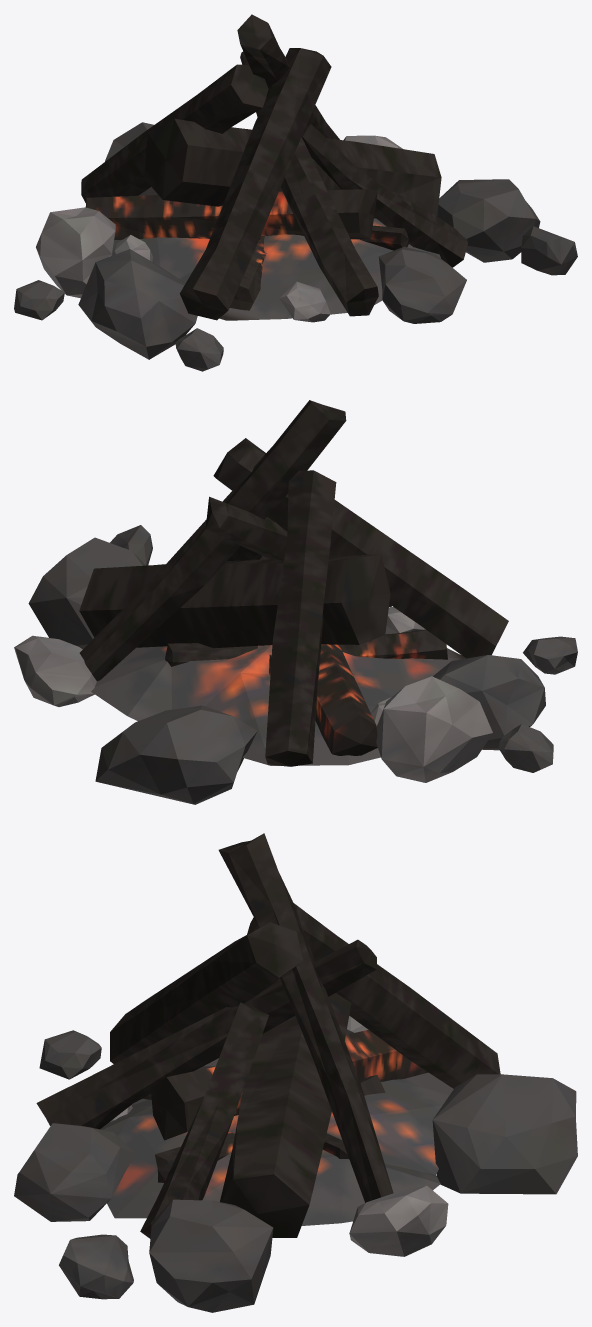
Rendered from campfire01.fbx.
The picture shows the model from 3 angles, top to bottom: view 1: azimuth 30°, elevation 25°; view 2: azimuth 150°, elevation 25°; view 3: azimuth 270°, elevation 25°; orthographic projection. The views are drawn at different scales.
Parts seen in each view (by area): view 1: campfire01; view 2: campfire01; view 3: campfire01.
Boxes of the visible parts, x1,y1,x2,y2 form: campfire01: [14, 14, 577, 371]; campfire01: [14, 400, 577, 804]; campfire01: [14, 833, 577, 1312].
Bounding box in the file's own units: 1.71 × 0.9613 × 1.41.
Materials: 1 (1 with a texture image).
